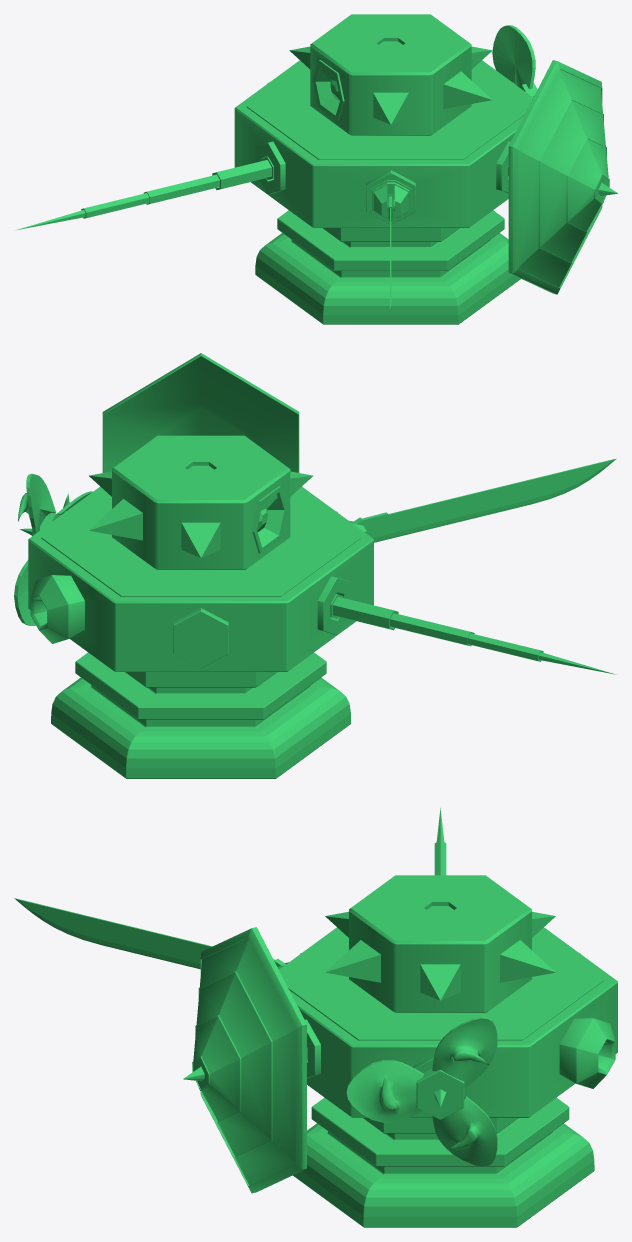
Rendered from tour.FBX.
The picture shows the model from 3 angles, top to bottom: view 1: azimuth 30°, elevation 25°; view 2: azimuth 150°, elevation 25°; view 3: azimuth 270°, elevation 25°; orthographic projection. The views are drawn at different scales.
Parts seen in each view (by area): view 1: Corps_main, pieds, Corps_bouclier, Tete_main, Corps_estoc, Corps_ventilo, Corps_epee_pivot, Tete_spike_04, Tete_spike_05, Corps_epaule_estoc, Corps_epaule_epee, Corps_epaule_bouclier; view 2: Corps_main, pieds, Tete_main, Corps_bouclier, Corps_epee_lame, Corps_estoc, Corps_epaule_soufflerie, Corps_epaule_empty, Corps_ventilo, Tete_spike_02, Tete_spike_01, Corps_epaule_estoc; view 3: Corps_main, pieds, Corps_bouclier, Tete_main, Corps_ventilo, Corps_epee_lame, Corps_epaule_soufflerie, Tete_spike_02, Tete_spike_04, Tete_spike_03, Corps_epaule_bouclier, Corps_estoc.
Boxes of the visible parts, x1,y1,x2,y2 form: Corps_main: (234,60,532,227); pieds: (255,210,520,324); Corps_bouclier: (508,60,617,294); Tete_main: (310,14,471,135); Corps_estoc: (16,157,273,230); Corps_ventilo: (492,25,537,97); Corps_epee_pivot: (370,180,411,219); Tete_spike_04: (443,71,492,108); Tete_spike_05: (373,92,408,124); Corps_epaule_estoc: (255,141,285,194); Corps_epaule_epee: (366,170,415,224); Corps_epaule_bouclier: (496,141,510,193); Corps_main: (28,486,373,671); pieds: (51,652,351,778); Tete_main: (112,435,290,569); Corps_bouclier: (102,353,299,472); Corps_epee_lame: (352,458,616,542); Corps_estoc: (330,594,615,674); Corps_epaule_soufflerie: (30,575,84,643); Corps_epaule_empty: (173,608,228,668); Corps_ventilo: (14,473,92,625); Tete_spike_02: (89,499,142,540); Tete_spike_01: (181,522,220,557); Corps_epaule_estoc: (317,576,350,635); Corps_main: (279,927,617,1117); pieds: (293,1097,594,1227); Corps_bouclier: (183,927,306,1193); Tete_main: (349,875,531,1012); Corps_ventilo: (346,1016,497,1166); Corps_epee_lame: (14,898,285,969); Corps_epaule_soufflerie: (559,1018,615,1088); Tete_spike_02: (500,940,555,982); Tete_spike_04: (325,940,380,982); Tete_spike_03: (420,964,460,1000); Corps_epaule_bouclier: (305,1019,320,1078); Corps_estoc: (434,808,446,875).
Bounding box in the file's own units: 483 × 217 × 410.
